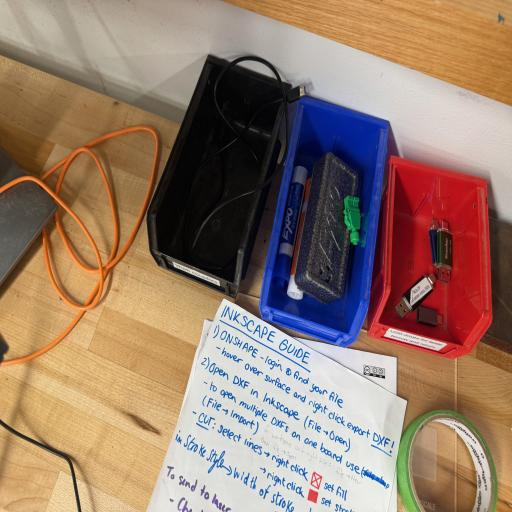Lego-Dude: (343, 196, 362, 245)
